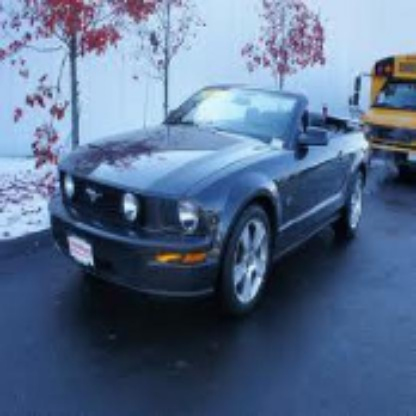Vehicle: (48, 82, 376, 328)
